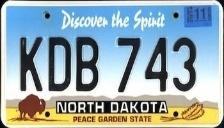3: (171, 35, 199, 93)
4: (143, 35, 171, 94)
7: (112, 36, 143, 94)
B: (74, 35, 101, 93)
D: (47, 34, 73, 93)
K: (17, 35, 45, 93)
